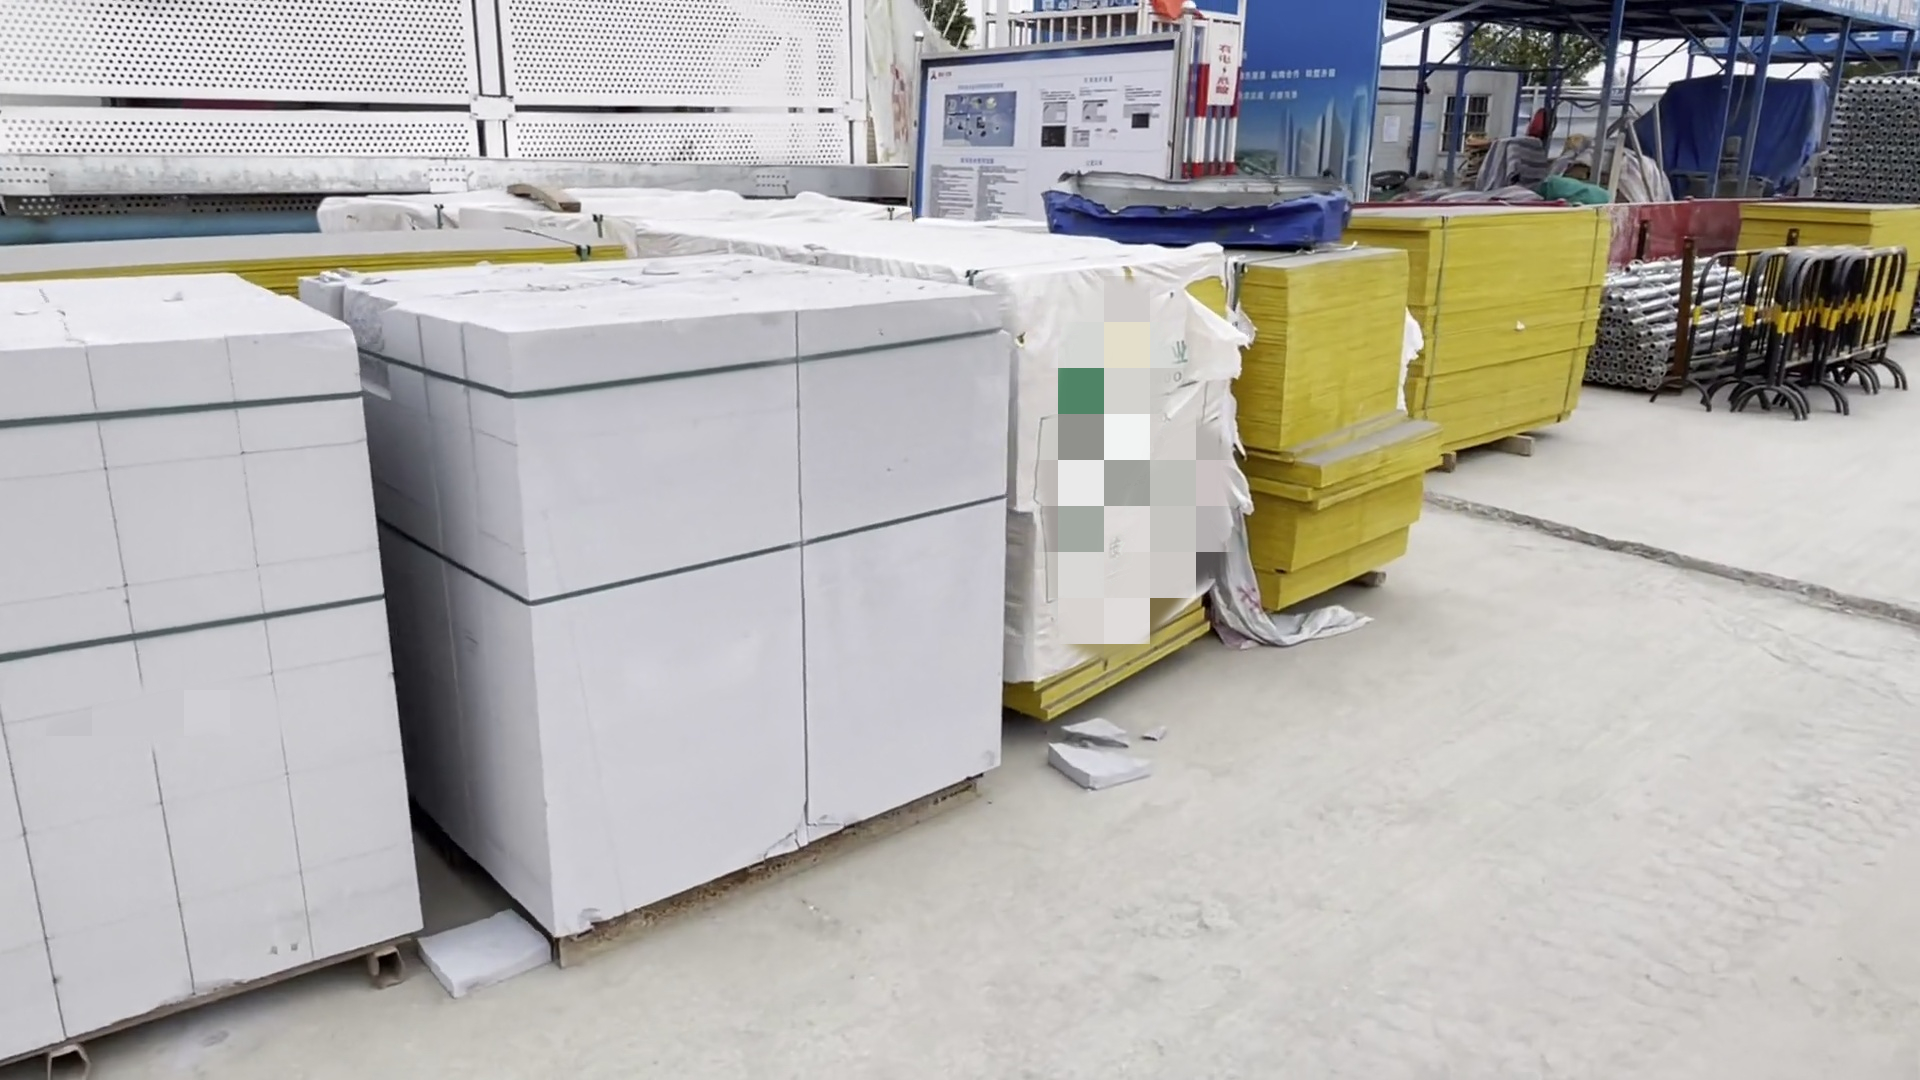board: (1215, 253, 1432, 670), (1406, 200, 1607, 492)
brick: (336, 257, 1017, 959), (1, 261, 443, 1054)
